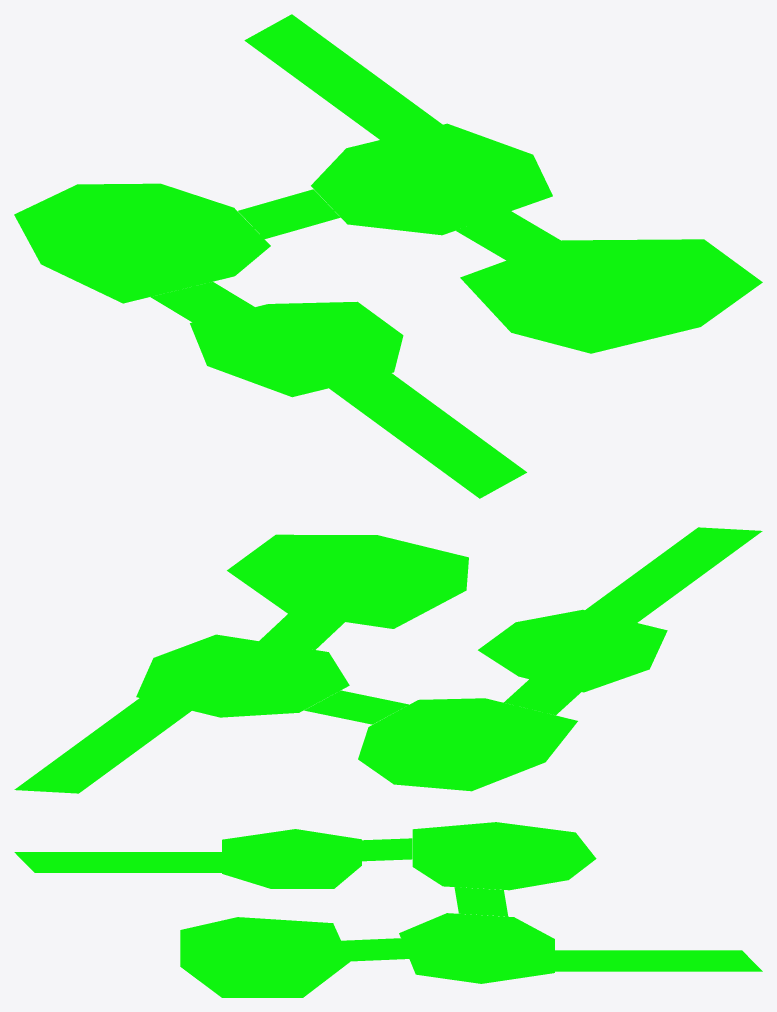
Rendered from s01b_ic3-floor.glb.
3 renders of one model, top to bottom at view 1: azimuth 30°, elevation 25°; view 2: azimuth 150°, elevation 25°; view 3: azimuth 270°, elevation 25°, orthographic. The views are drawn at different scales.
Visible parts, largest first — view 1: collision_floor-colonly; view 2: collision_floor-colonly; view 3: collision_floor-colonly.
Boxes of the visible parts, box(x1,y1,x2,y2) form: collision_floor-colonly: box(14, 14, 762, 498); collision_floor-colonly: box(14, 527, 762, 793); collision_floor-colonly: box(14, 822, 762, 997).
Bounding box in the file's own units: 50 × 0 × 90.
